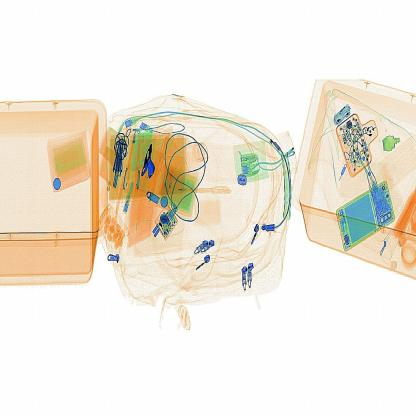wrench: (140, 141, 162, 190)
